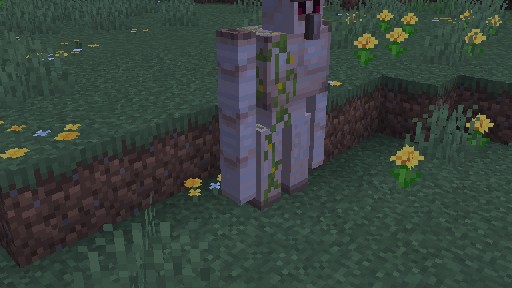iron_golem: (215, 0, 331, 210)
